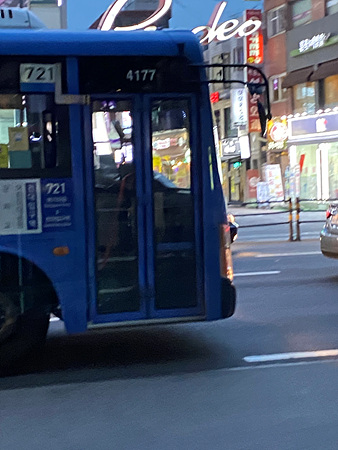entrance: (88, 92, 206, 328)
